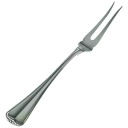fork: (2, 1, 123, 128)
